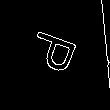P_E: (25, 29, 85, 81)
